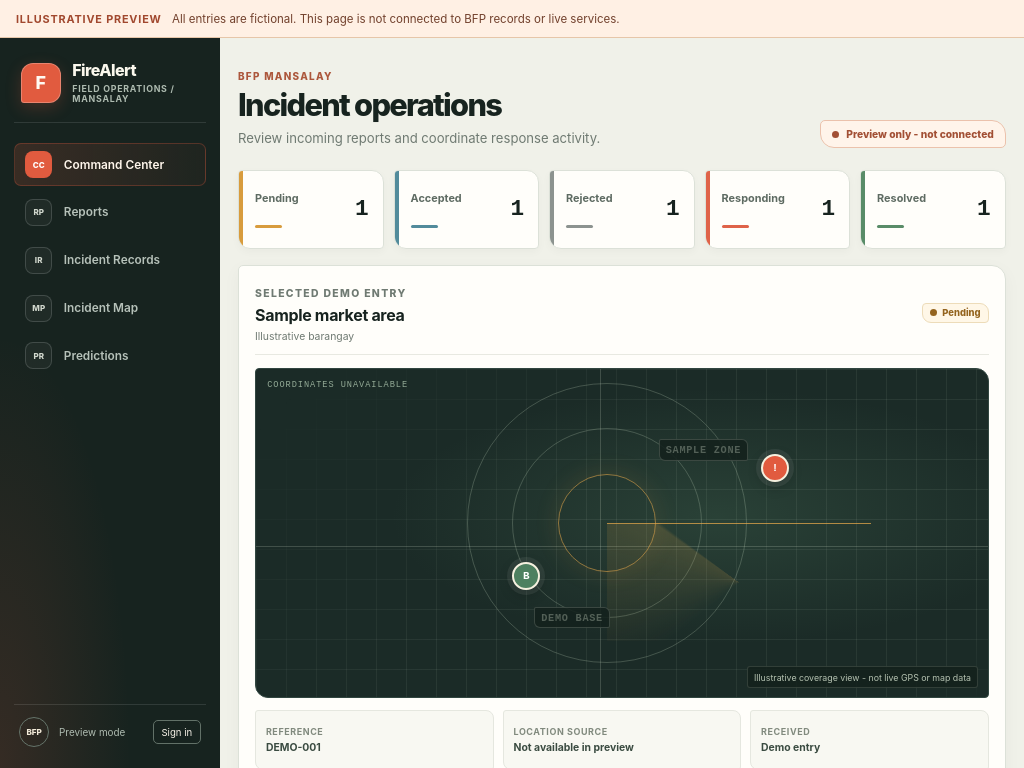
Test: keeps predictions unavailable until a validated model is connected
Click the button "PR Predictions" at (110, 356), box [14,334,206,377]
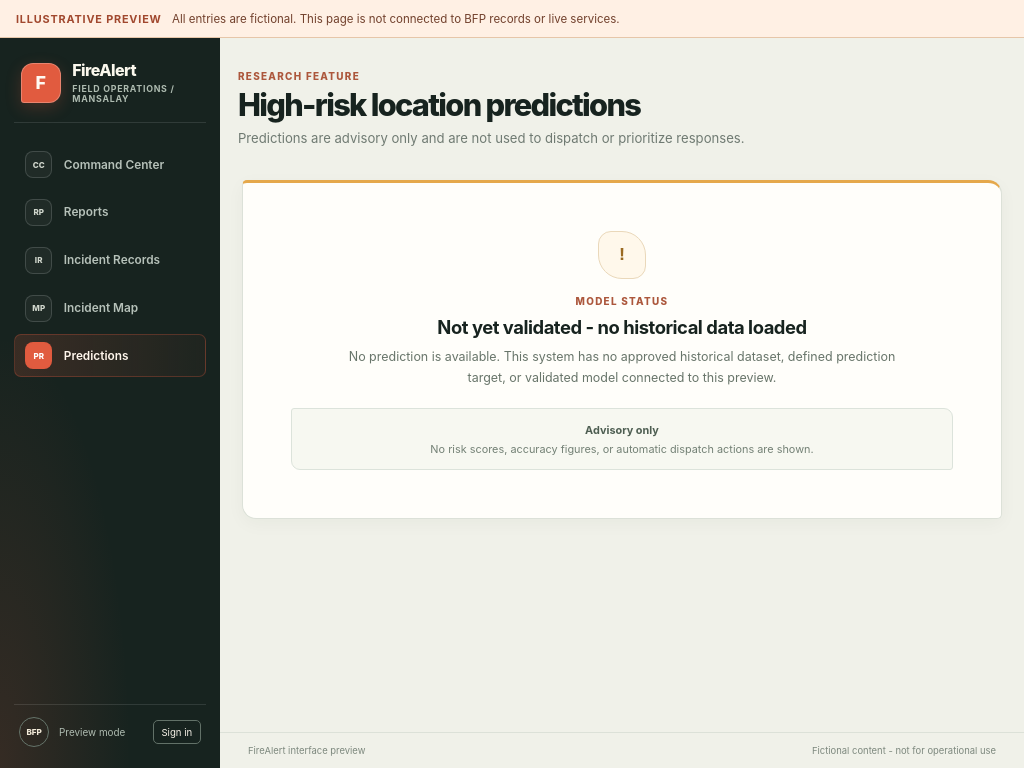
Now the heading "Not yet validated - no historical data loaded" is shown, box [437,316,807,338]
Now the text "No risk scores, accuracy figures, or automatic dispatch" is shown, box [430,442,814,456]
